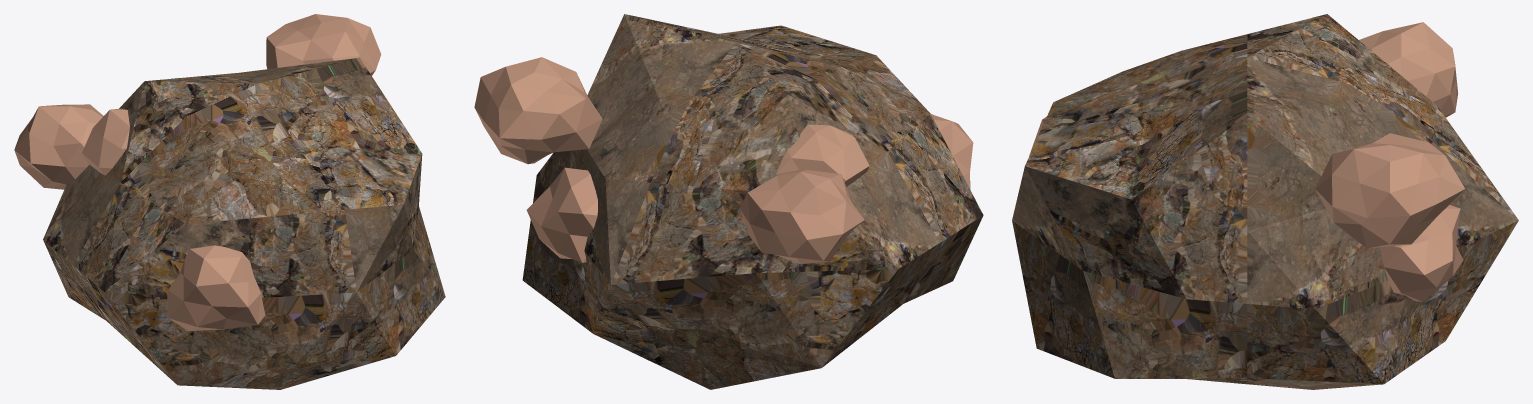
Rendered from iron_ore.glb.
3 renders of one model, left to right at view 1: azimuth 30°, elevation 25°; view 2: azimuth 150°, elevation 25°; view 3: azimuth 270°, elevation 25°, orthographic. The views are drawn at different scales.
Visible parts, largest first — view 1: rock, v3, v2, v1, v0; view 2: rock, v1, v2, v4, v0, v3; view 3: rock, v1, v2, v4.
Part boxes in pixels (x1,y1,x2,y2): rock: (43, 57, 445, 389); v3: (167, 245, 265, 330); v2: (14, 104, 103, 189); v1: (266, 14, 381, 75); v0: (82, 108, 129, 175); rock: (522, 14, 983, 389); v1: (474, 57, 602, 164); v2: (740, 170, 864, 263); v4: (526, 167, 597, 262); v0: (776, 124, 869, 186); v3: (931, 114, 973, 188); rock: (1012, 14, 1518, 389); v1: (1315, 133, 1464, 248); v2: (1359, 22, 1458, 117); v4: (1379, 205, 1463, 301).
Size of the model in its own units: 0.1654 by 0.1177 by 0.1679.
Materials: 2 (1 with a texture image).
